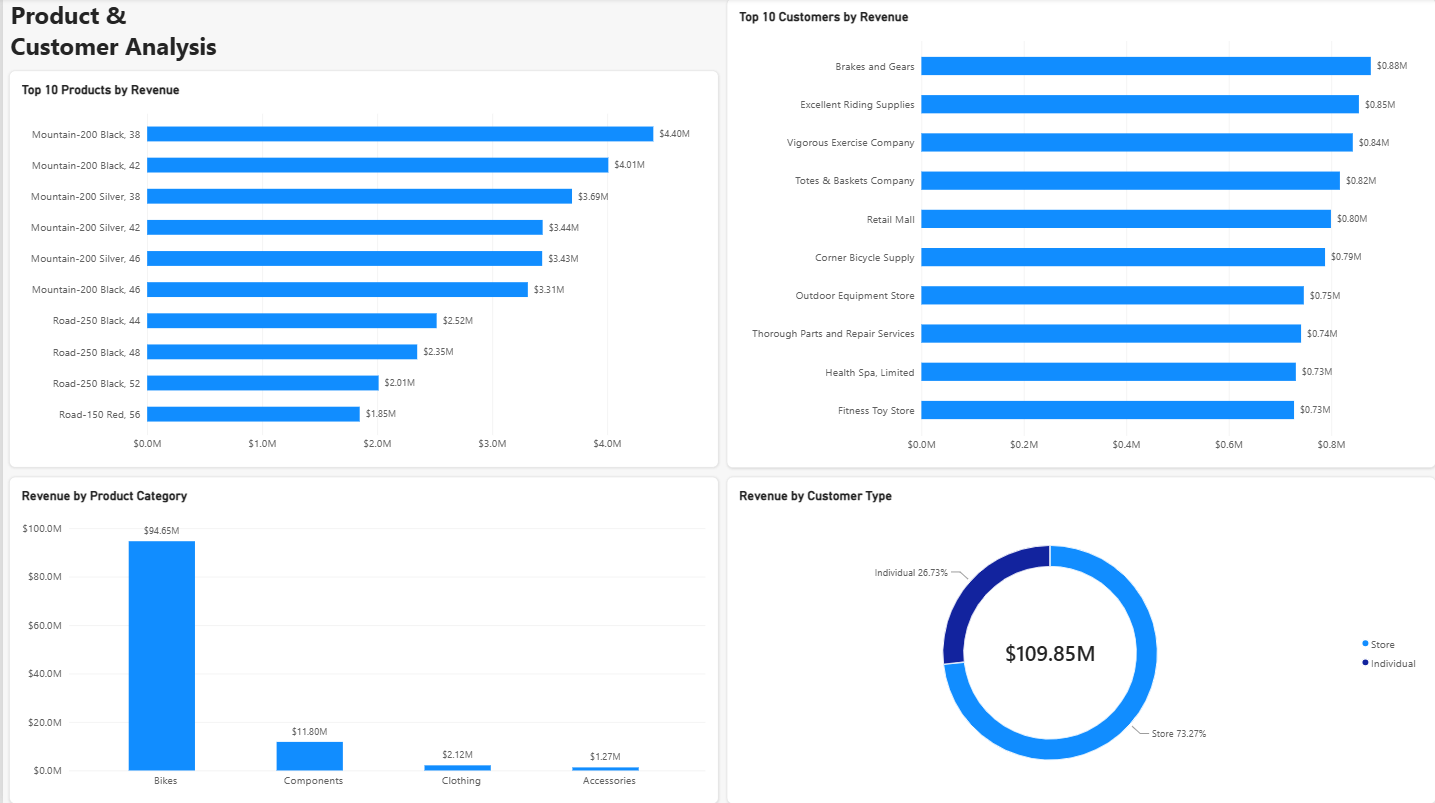

The page's visual inventory and layout, read from the dashboard file:
{"tool":"powerbi","page":{"name":"Product & Customer Analysis","canvas":[1920,1080],"ordinal":2},"visuals":[{"type":"textbox","box":[10,0,280,280],"z":0},{"type":"clusteredBarChart","title":"Top 10 Products by Revenue","fields":{"Category":["ProductPerformance.product_name"],"Y":["Sum(ProductPerformance.total_revenue)"]},"box":[8.9,97.9,950.2,531.9],"z":1000},{"type":"clusteredColumnChart","title":"Revenue by Product Category","fields":{"Category":["ProductPerformance.category_name"],"Y":["Sum(ProductPerformance.total_revenue)"]},"box":[8.9,640.9,950.2,438.4],"z":2000},{"type":"clusteredBarChart","title":"Top 10 Customers by Revenue","fields":{"Category":["CustomerPerformance.customer_name"],"Y":["Sum(CustomerPerformance.total_revenue)"]},"box":[970.2,0,950.2,629.8],"z":3000},{"type":"donutChart","title":"Revenue by Customer Type","fields":{"Category":["CustomerPerformance.customer_type"],"Y":["Sum(CustomerPerformance.total_revenue)"]},"box":[970,641,950,438],"z":4000}]}

Visuals, with their boxes in screenshot pixels (x1, y1, x2, y2), scaled from the page's 1920x1080 canvas onto the 1435x803 screenshot:
textbox: rect(7, 0, 217, 208)
"Top 10 Products by Revenue" clusteredBarChart: rect(7, 73, 717, 468)
"Revenue by Product Category" clusteredColumnChart: rect(7, 477, 717, 802)
"Top 10 Customers by Revenue" clusteredBarChart: rect(725, 0, 1434, 468)
"Revenue by Customer Type" donutChart: rect(725, 477, 1434, 802)
